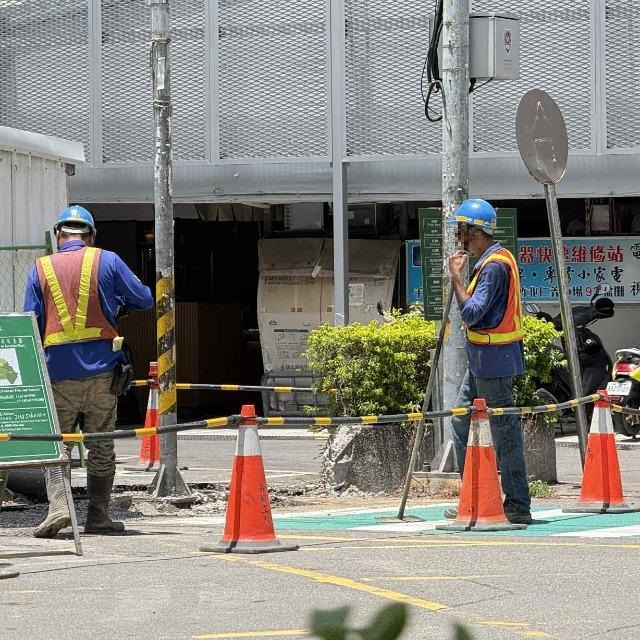Helmet: (449, 195, 502, 255), (49, 199, 101, 250)
Vest: (24, 244, 123, 348), (457, 247, 532, 354)
